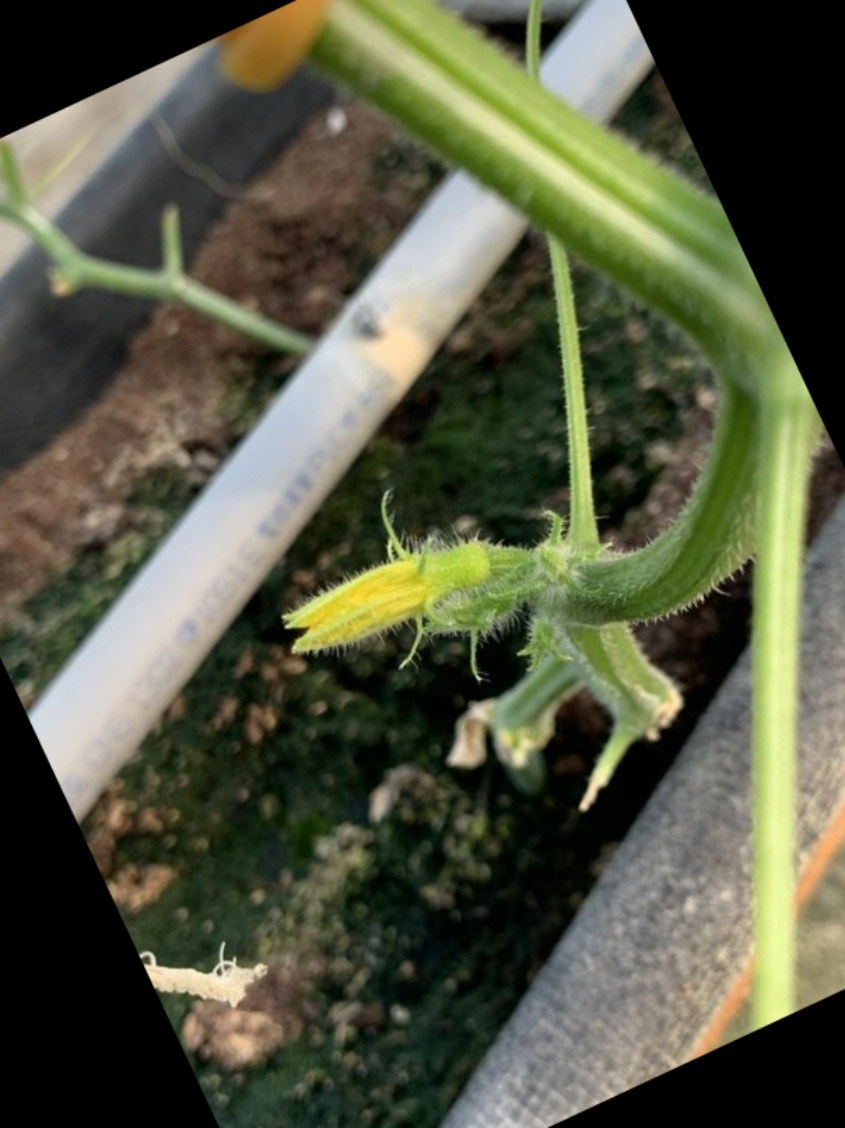bud: (278, 536, 531, 675)
